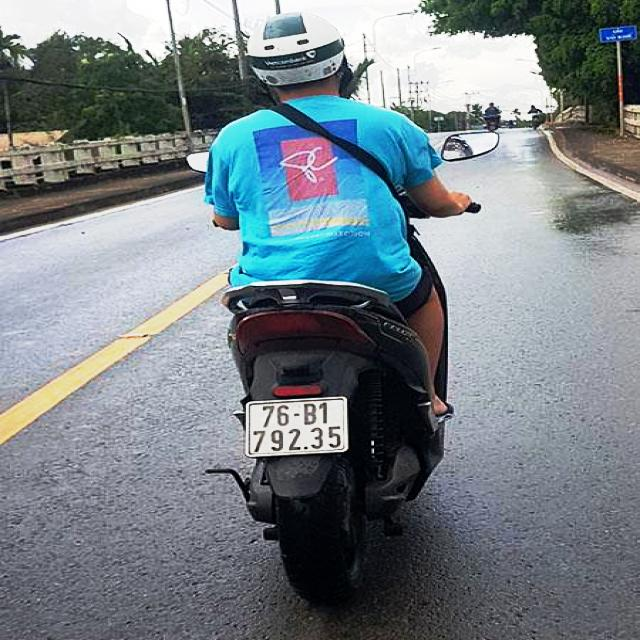license_plate: (243, 399, 350, 459)
